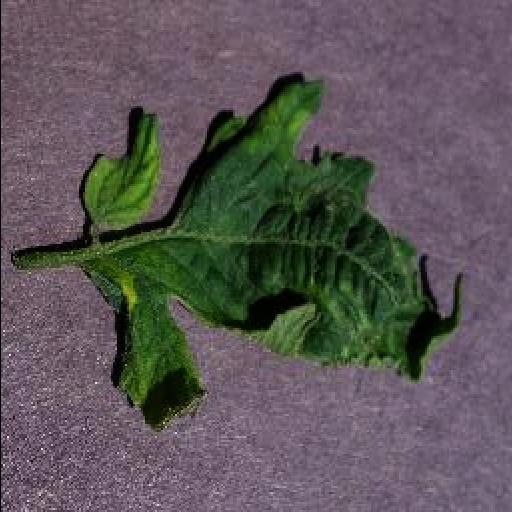disease_tomato: (77, 80, 471, 434)
